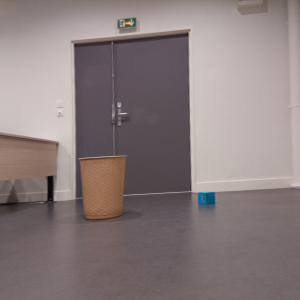medium: (79, 155, 127, 220)
small: (198, 190, 216, 206)
